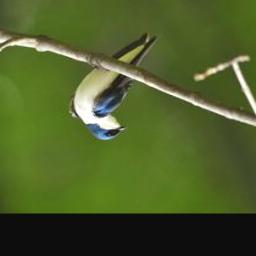Swallow: (68, 33, 160, 142)
